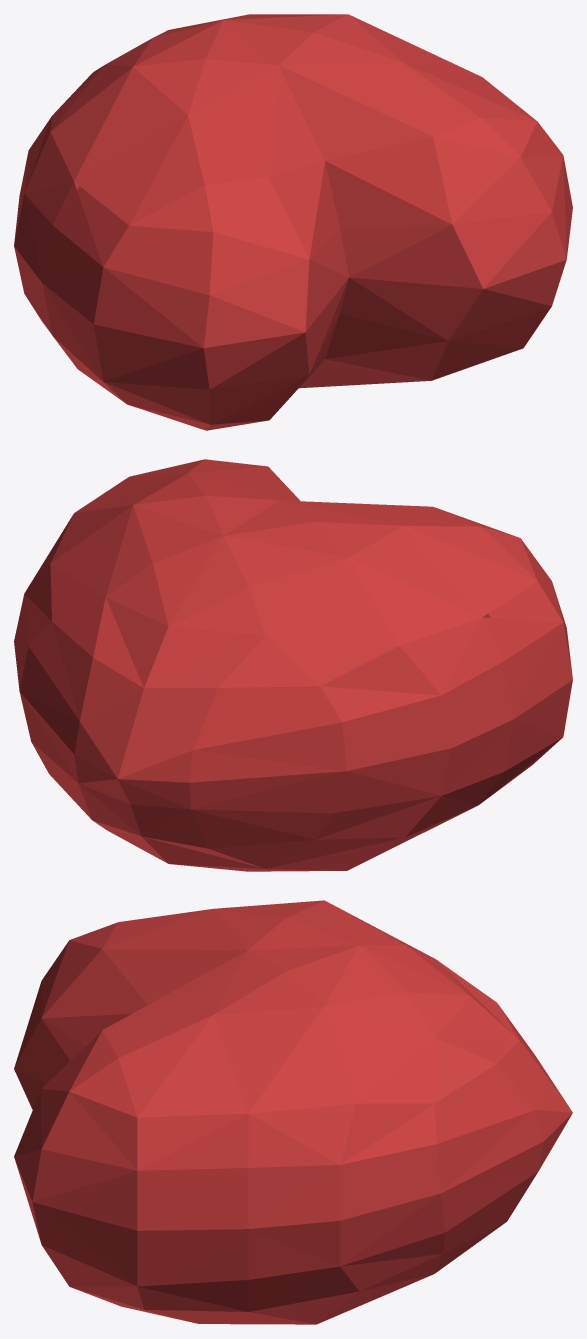
Rendered from heart.obj.
3 renders of one model, top to bottom at view 1: azimuth 30°, elevation 25°; view 2: azimuth 150°, elevation 25°; view 3: azimuth 270°, elevation 25°, orthographic.
Visible parts, largest first — view 1: Cube_Cube.003; view 2: Cube_Cube.003; view 3: Cube_Cube.003.
Part boxes in pixels (x1,y1,x2,y2): Cube_Cube.003: (14, 14, 572, 430); Cube_Cube.003: (14, 459, 572, 871); Cube_Cube.003: (14, 900, 572, 1324).
Size of the model in its own units: 0.75 by 0.5 by 0.75.
Materials: 1 (1 with a texture image).
